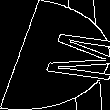M_W: (6, 27, 104, 83)
